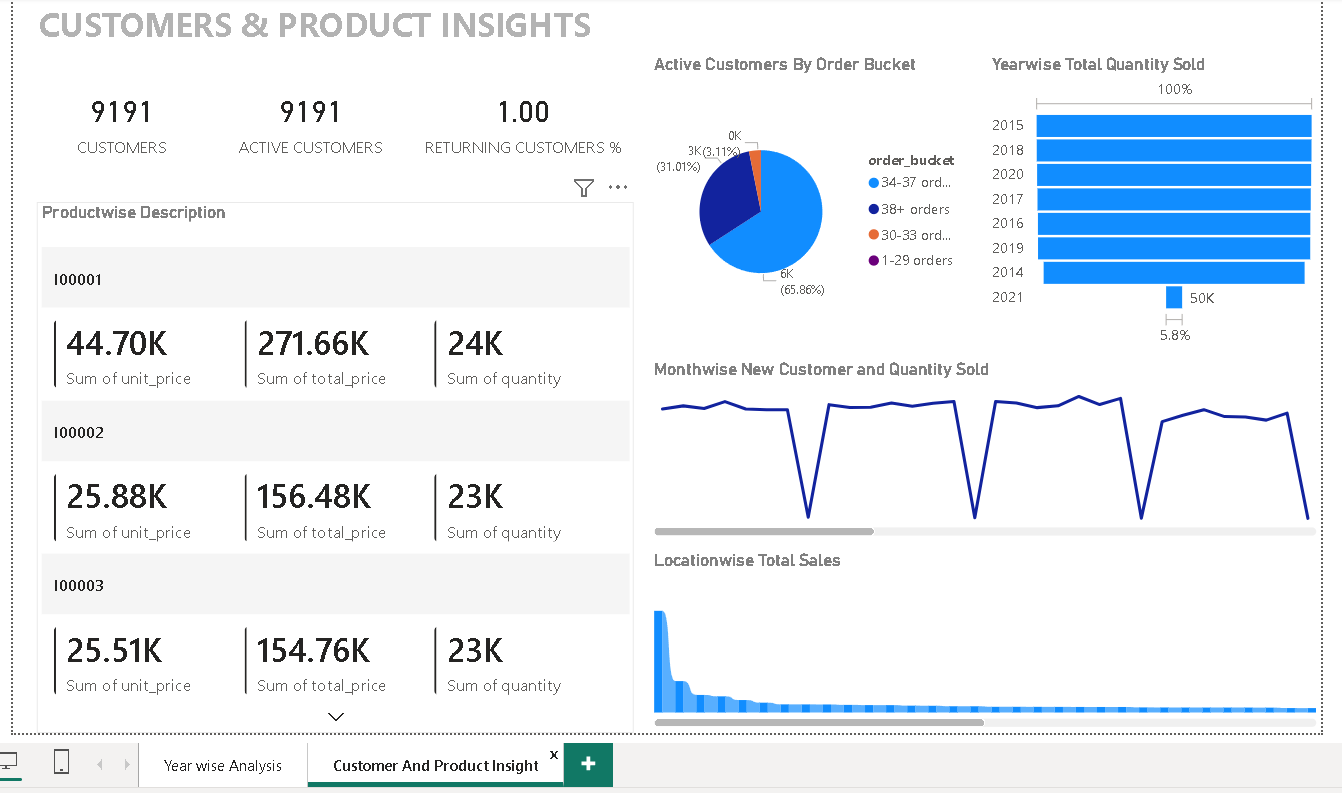

The dashboard page shown, as its layout file describes it:
{"tool":"powerbi","page":{"name":"Customer And Product Insight","canvas":[1280,720],"ordinal":1},"visuals":[{"type":"card","fields":{"Values":["DAX MEASURES.CUSTOMERS"]},"box":[21,54.5,171.1,132.5],"z":0},{"type":"textbox","box":[21,0,562.9,54.5],"z":1000},{"type":"card","fields":{"Values":["DAX MEASURES.RETURNING CUSTOMERS %"]},"box":[391.8,54.5,216.4,132.5],"z":2000},{"type":"card","fields":{"Values":["DAX MEASURES.ACTIVE CUSTOMERS"]},"box":[203.9,54.5,175.3,132.5],"z":3000},{"type":"pieChart","title":"Active Customers By Order Bucket","fields":{"Y":["DAX MEASURES.ACTIVE CUSTOMERS"],"Category":["customer_dim.order_bucket"]},"box":[622.5,54.5,317.9,291.1],"z":4000},{"type":"funnel","title":"Yearwise  Total Quantity Sold","fields":{"Y":["DAX MEASURES.TOTAL QTY"],"Category":["time_dim.year"]},"box":[952.2,54.5,328,291.1],"z":5000},{"type":"cardVisual","title":"Productwise Description","fields":{"Rows":["fact_table.item_key"],"Data":["Sum(fact_table.unit_price)","Sum(fact_table.total_price)","Sum(fact_table.quantity)"]},"box":[22.7,200.5,585.6,519.3],"z":6000},{"type":"lineChart","title":"Monthwise New Customer and Quantity Sold","fields":{"Y":["DAX MEASURES.MONTHLY NEW CUSTOMERS","DAX MEASURES.TOTAL QTY"],"Category":["time_dim.month_year"]},"box":[622.5,353.2,657.7,178.7],"z":7000},{"type":"ribbonChart","title":"Locationwise  Total Sales","fields":{"Category":["store_dim.store_location"],"Y":["DAX MEASURES.TOTAL SALES"]},"box":[622.5,541.1,657.7,178.7],"z":8000}]}

Visuals, with their boxes on the page's 1280x720 design canvas (x1, y1, x2, y2). These are canvas units, not pixel positions in the 1342x793 screenshot, which may show the page scaled, cropped or inside an application window:
card - DAX MEASURES.CUSTOMERS: 21, 54, 192, 187
textbox: 21, 0, 584, 54
card - DAX MEASURES.RETURNING CUSTOMERS %: 392, 54, 608, 187
card - DAX MEASURES.ACTIVE CUSTOMERS: 204, 54, 379, 187
"Active Customers By Order Bucket" pieChart: 622, 54, 940, 346
"Yearwise  Total Quantity Sold" funnel: 952, 54, 1280, 346
"Productwise Description" cardVisual: 23, 200, 608, 720
"Monthwise New Customer and Quantity Sold" lineChart: 622, 353, 1280, 532
"Locationwise  Total Sales" ribbonChart: 622, 541, 1280, 720
